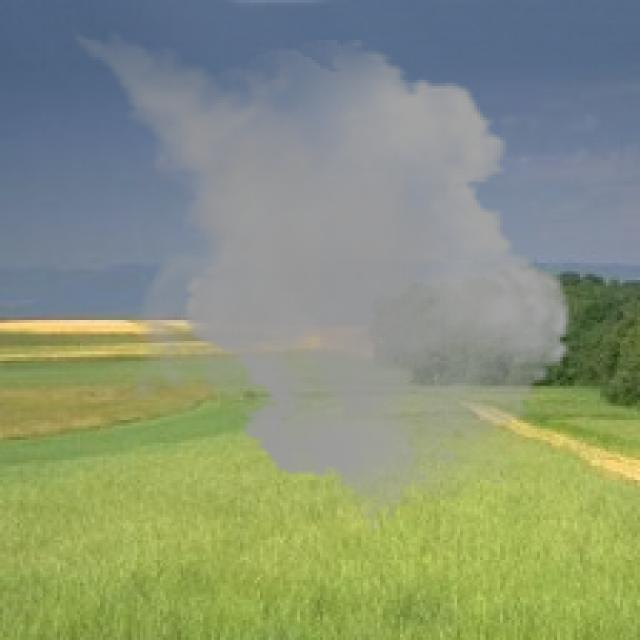Smoke: (46, 19, 586, 534)
